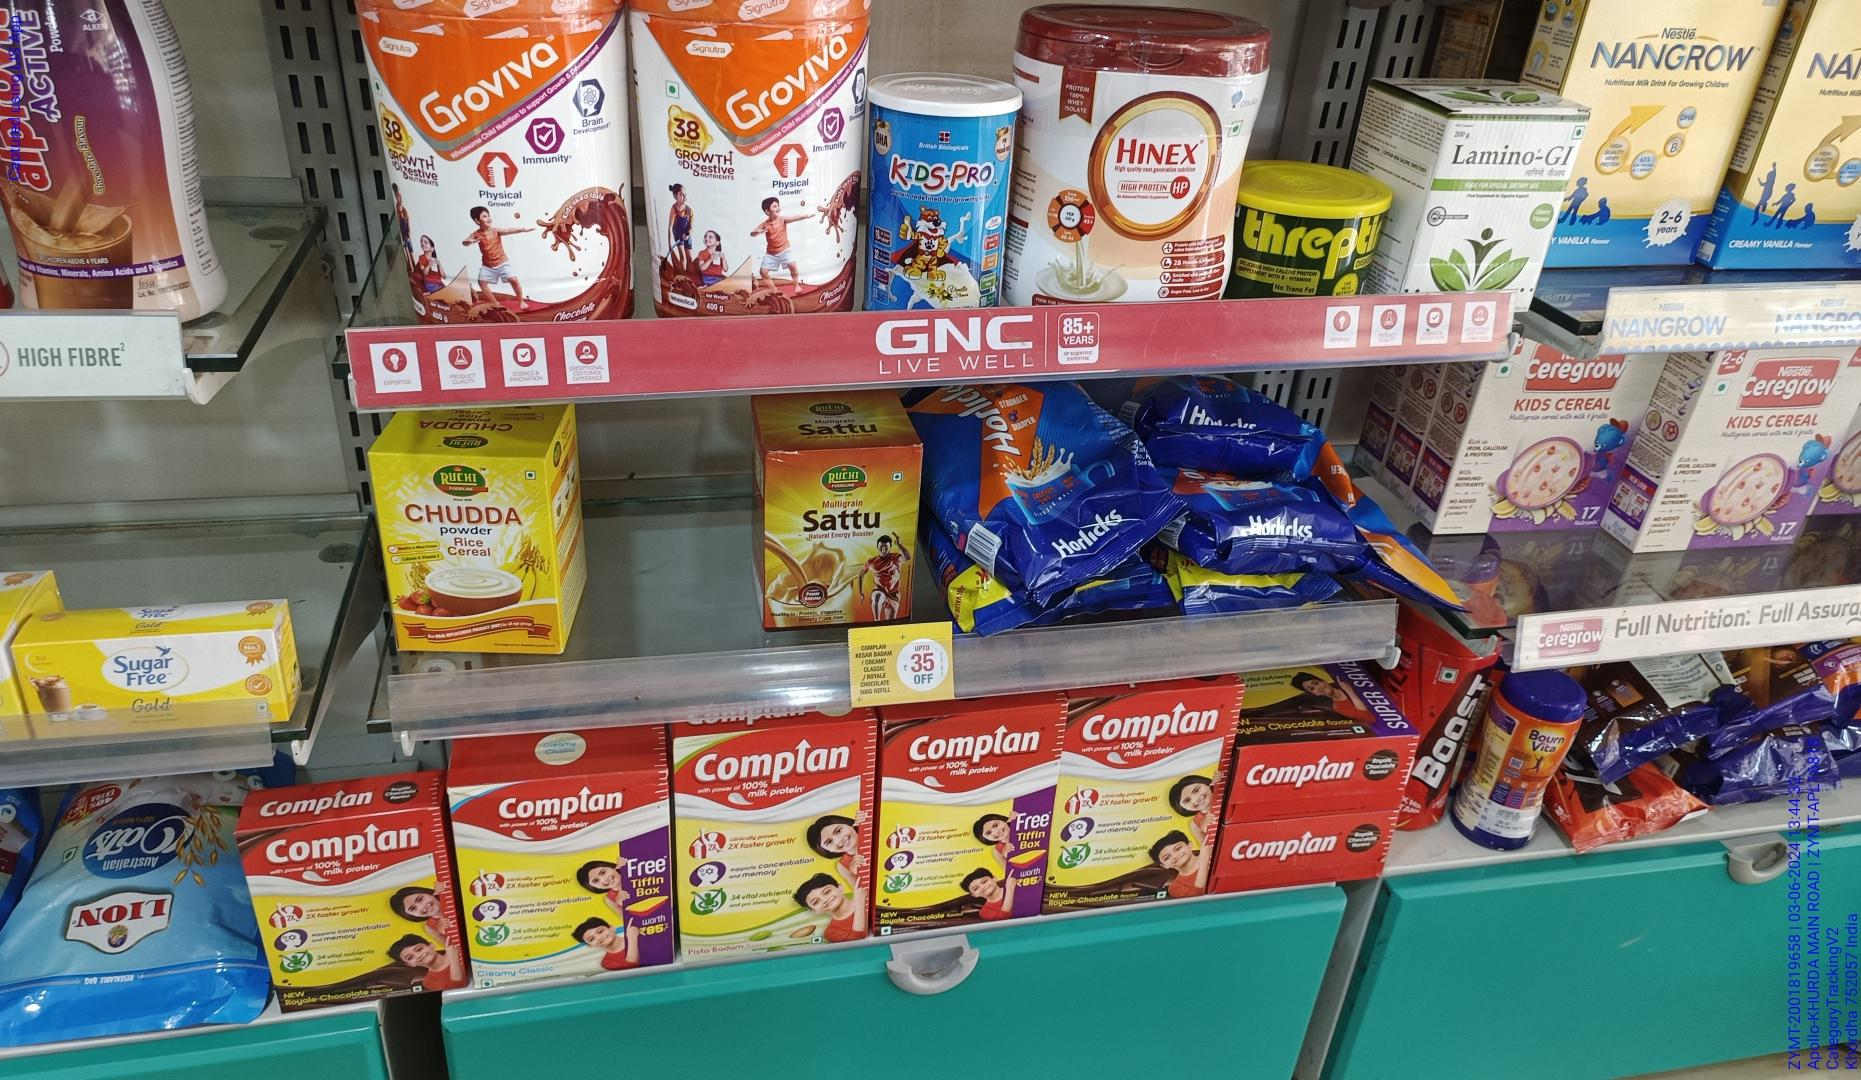COMPLAN_CHOCOLATE_200_GMS_PACK: (256, 822, 454, 996)
COMPLAN_CREAMY_CLASSIC_500_G_PACK: (456, 778, 670, 987)
COMPLAN_PISTA_BADAM_500_GMS_PACK: (679, 726, 873, 951)
